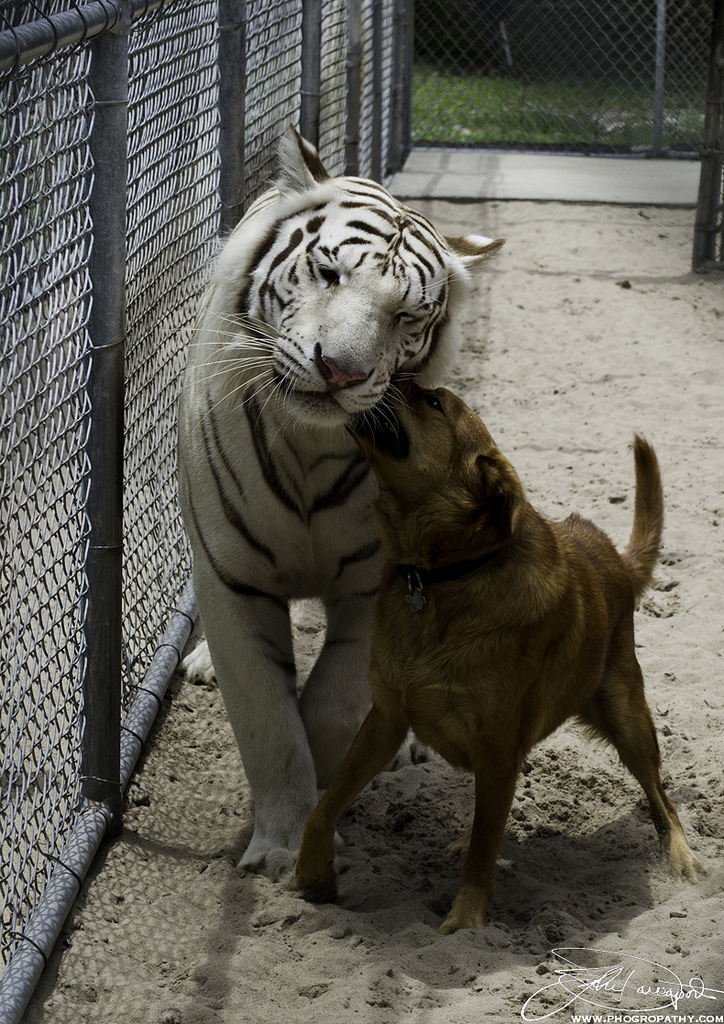dog: (276, 379, 700, 933)
tiger: (169, 126, 503, 863)
